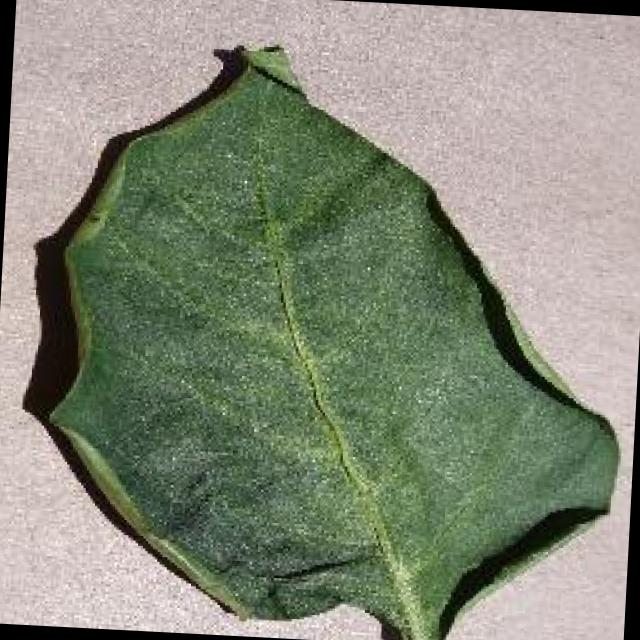Chilli_Healthy: (31, 28, 640, 640)
